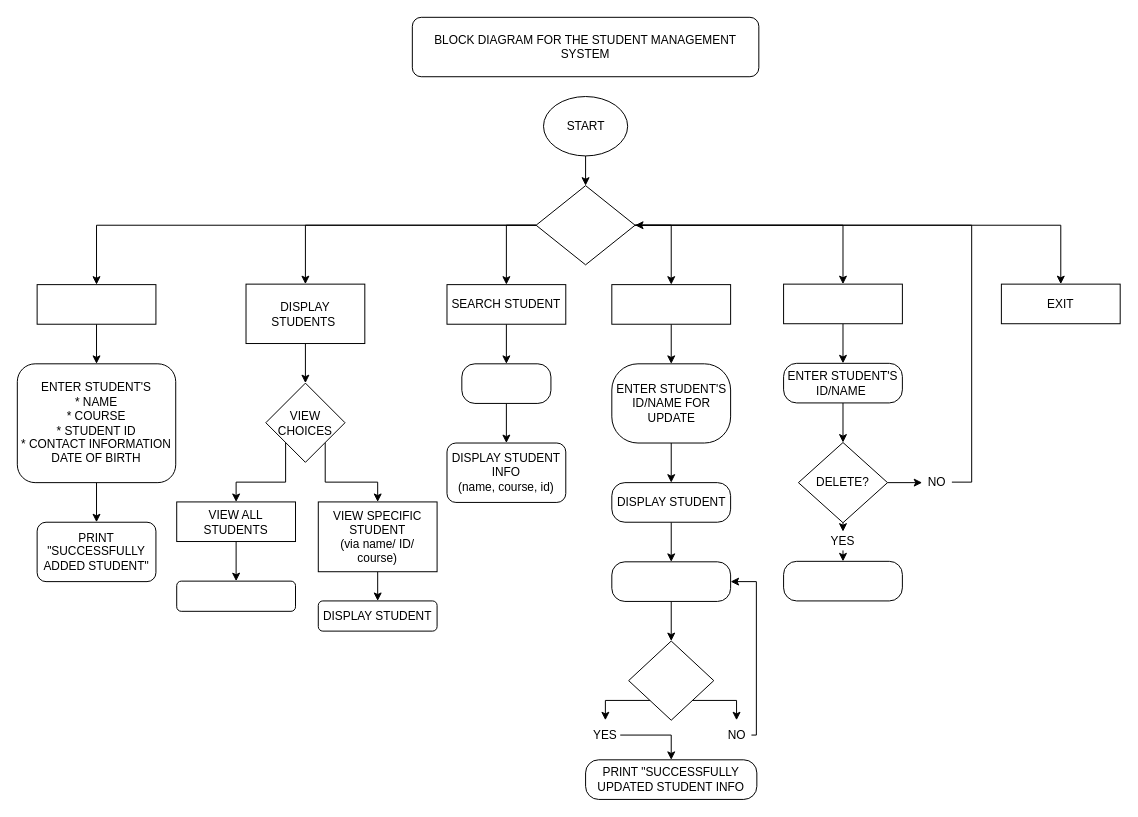
This 1138x817 diagram has some shape labels left out. The shapes that lost their labels are listed below. From the top down, each one's centre as x and y in pixels, then its label:
At point 585,225: "MAIN MENU".
At point 96,304: "ADD/REGISTER STUDENTS".
At point 671,304: "UPDATE STUDENTS".
At point 842,303: "DELETE STUDENTS".
At point 506,383: "Enter: *Name/ID".
At point 236,595: "DISPLAY ALL STUDENTS".
At point 671,581: "INSERT UPDATED DETAILS".
At point 842,580: "STUDENT DELETED".
At point 671,680: "Confirm changes?".
